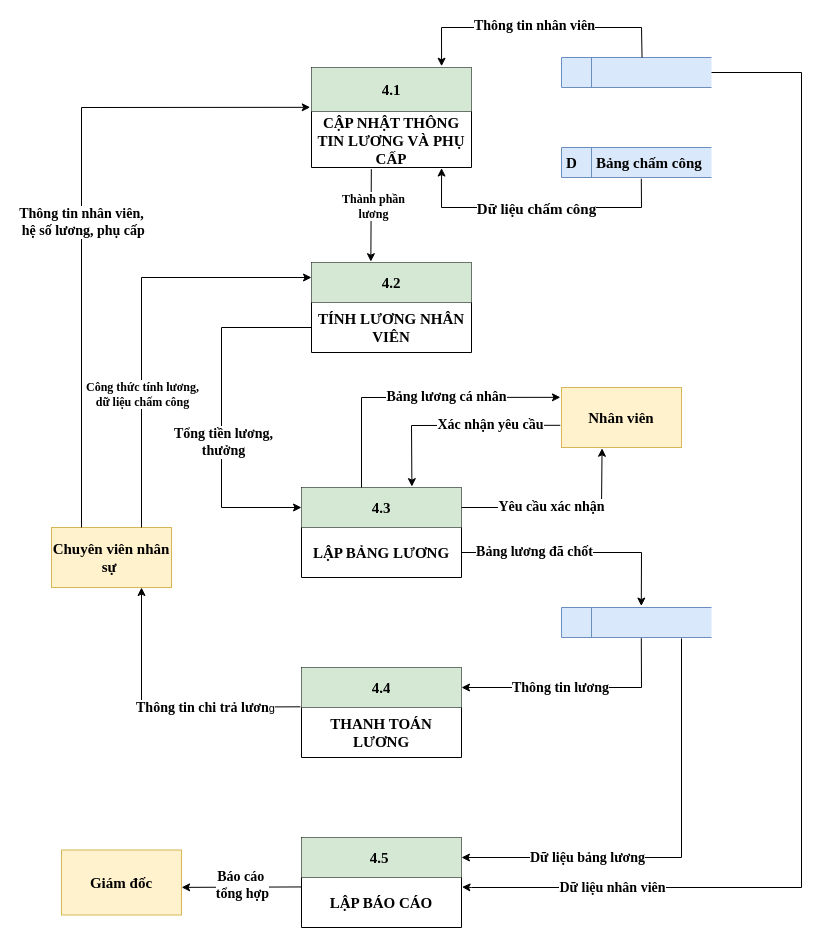
Some shapes in this 827 by 945 pixel diagram are drawn without their labels. The centre of each missing label's shape, as x and y in pixels:
C Hồ sơ nhân viên: point 636,72
F Bảng lương: point 636,622
